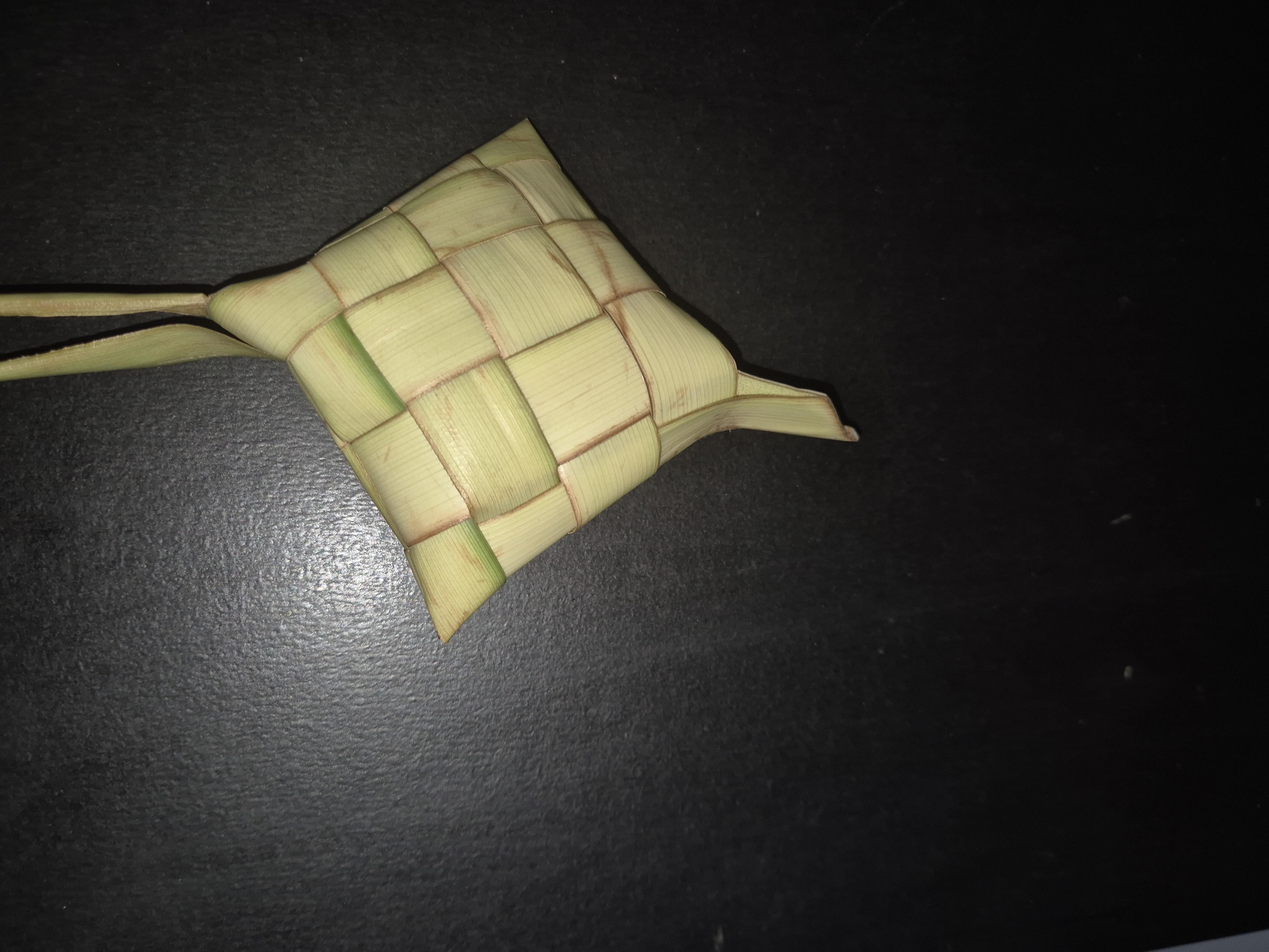Tipat Nasi: (418, 156, 1105, 577)
